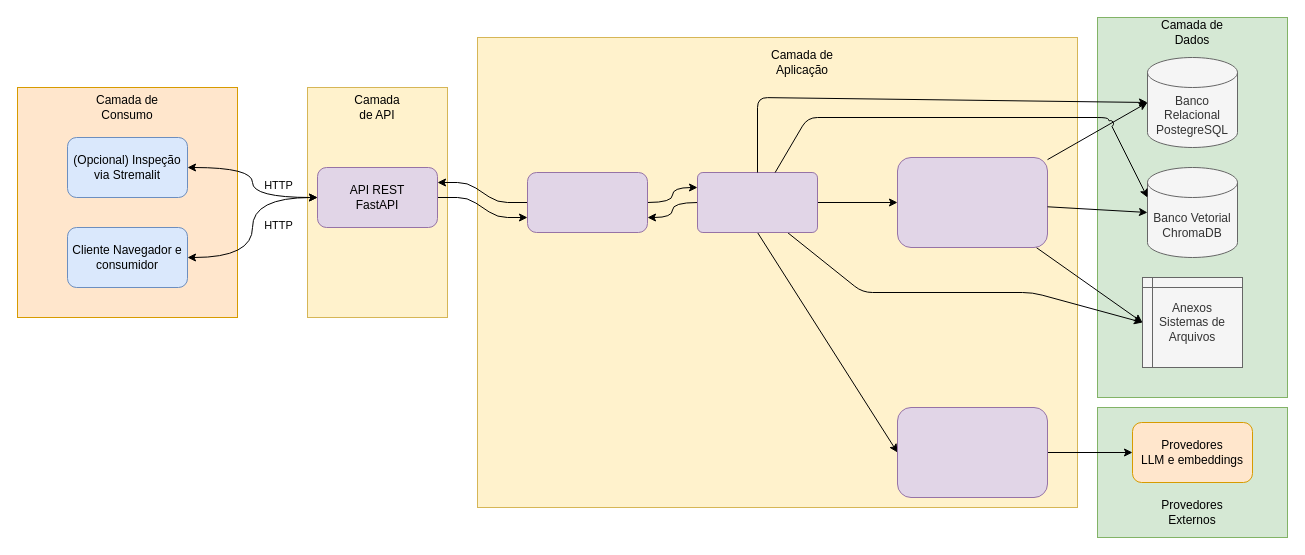
The diagram is 1305 pixels wide and 555 high, and some of its shapes have lost their labels. Each missing label, with the box of its shape:
Camada de Compatibilidade LLM e embeddings: (896, 406, 1048, 498)
Controllers Tradução HTTP: (526, 172, 648, 232)
Processos em background indexação e preparação: (896, 156, 1048, 248)
Serviços Regras de negócio e Orquestração: (696, 172, 818, 232)
